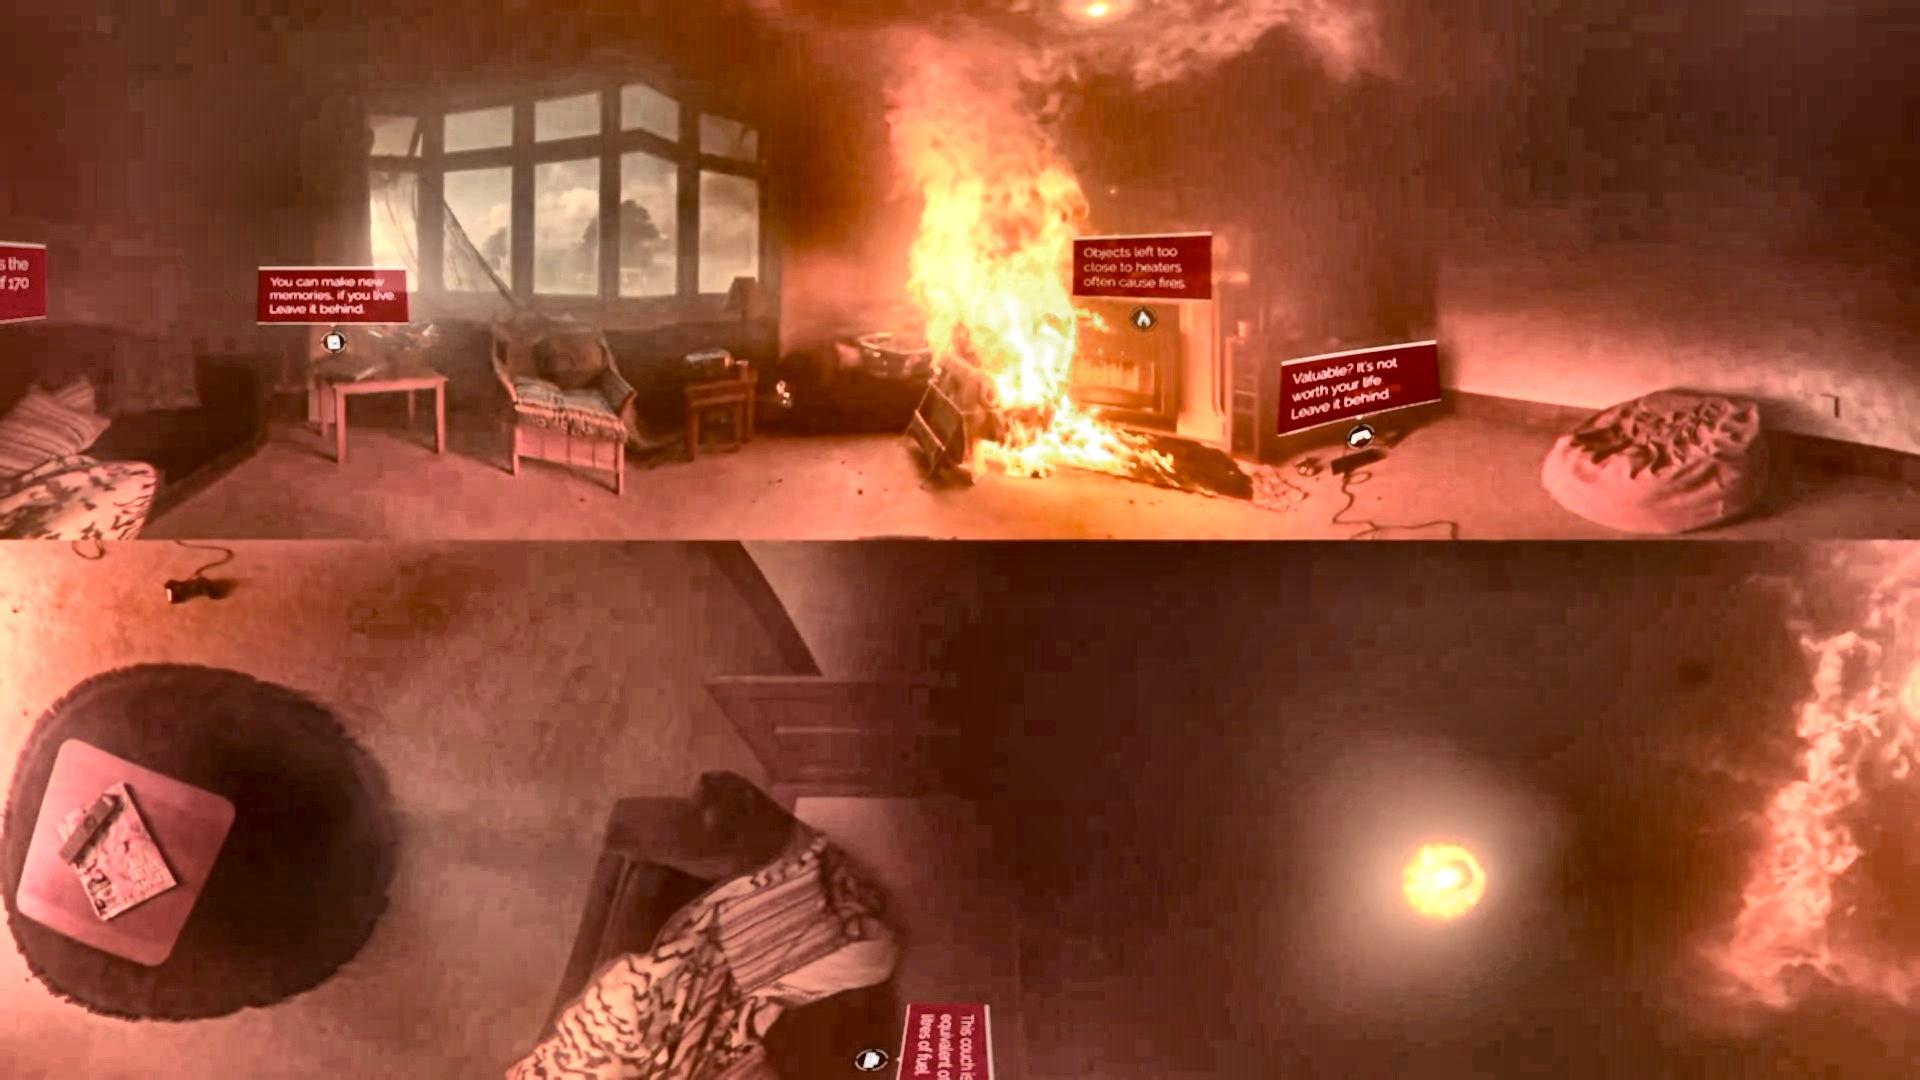fire: (877, 55, 1126, 468)
